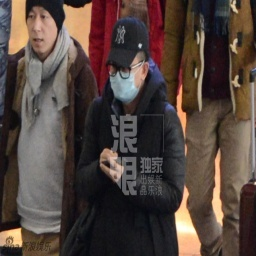correctlyWear: (106, 52, 149, 104)
noWear: (25, 7, 58, 53)
